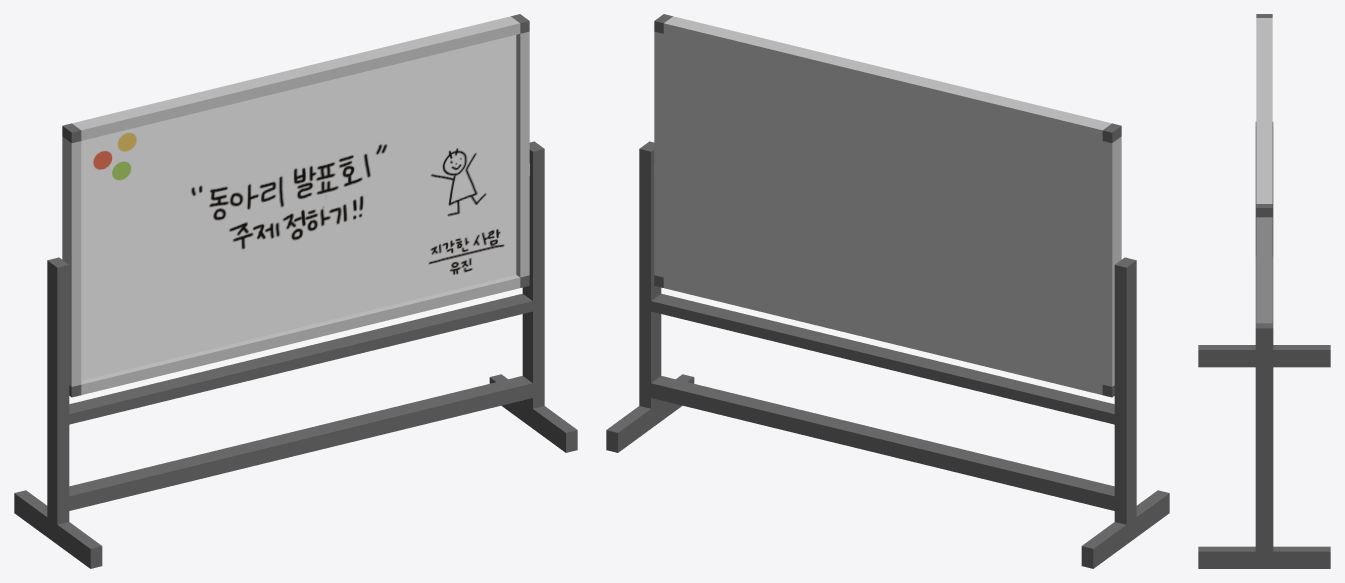
The model's file is fbx_club_whiteboard.fbx.
3 renders of one model, left to right at view 1: azimuth 30°, elevation 25°; view 2: azimuth 150°, elevation 25°; view 3: azimuth 270°, elevation 25°, orthographic. The views are drawn at different scales.
Visible parts, largest first — view 1: fbx_club_whiteboard; view 2: fbx_club_whiteboard; view 3: fbx_club_whiteboard.
Part boxes in pixels (x1=…): fbx_club_whiteboard: x1=14, y1=14, x2=577, y2=568; fbx_club_whiteboard: x1=606, y1=14, x2=1169, y2=568; fbx_club_whiteboard: x1=1198, y1=14, x2=1330, y2=568.
Size of the model in its own units: 4.97 by 3.98 by 1.35.
Materials: 1 (1 with a texture image).
